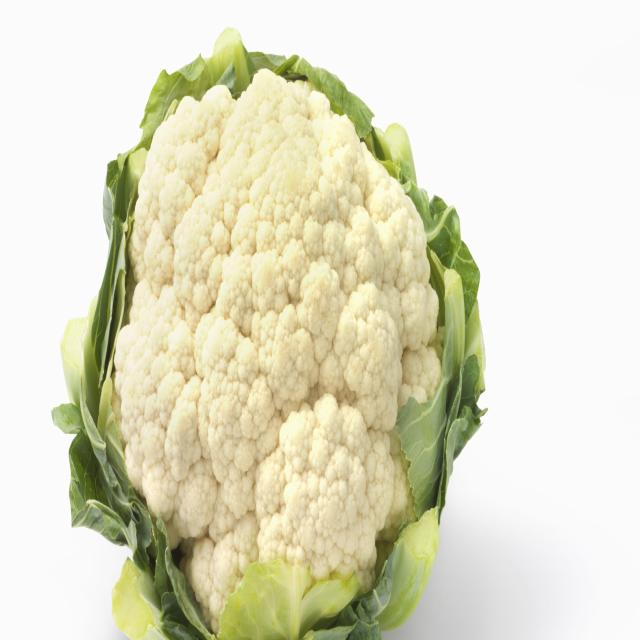Cauliflower head: (84, 21, 498, 640)
